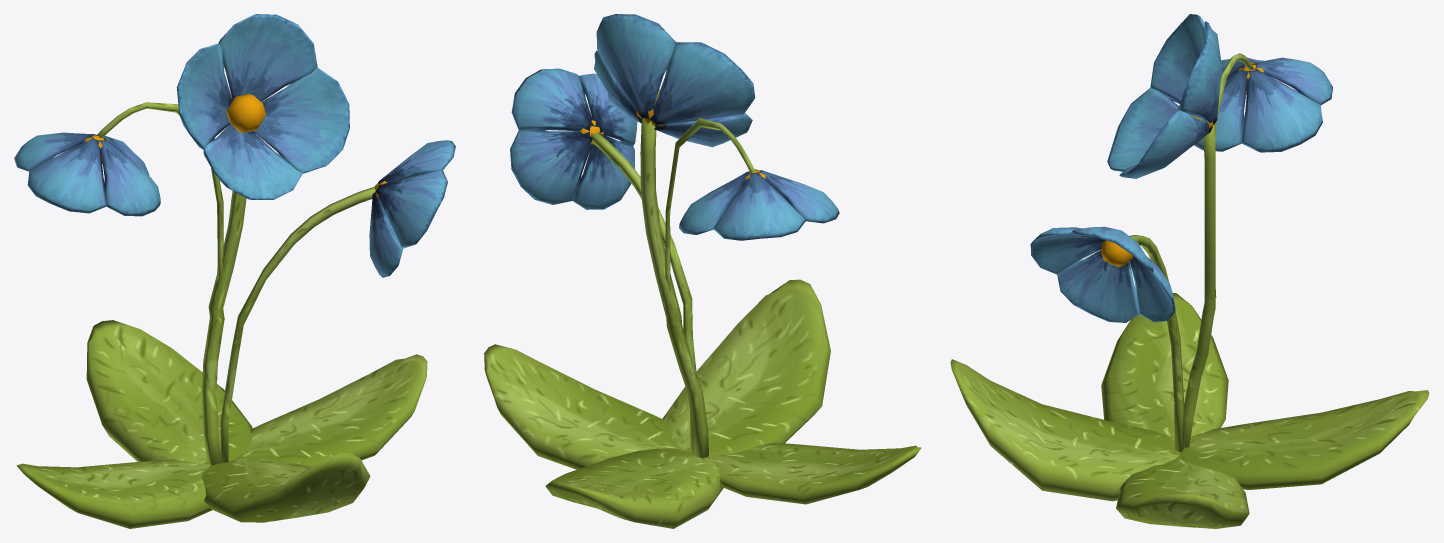
The model's file is Flor_5.fbx.
The picture shows the model from 3 angles, left to right: view 1: azimuth 30°, elevation 25°; view 2: azimuth 150°, elevation 25°; view 3: azimuth 270°, elevation 25°; orthographic projection. The views are drawn at different scales.
Parts seen in each view (by area): view 1: Flor2.003; view 2: Flor2.003; view 3: Flor2.003.
Part boxes in pixels (<box>): Flor2.003: <box>14,14,455,528</box>; Flor2.003: <box>484,14,921,528</box>; Flor2.003: <box>950,14,1429,528</box>.
Size of the model in its own units: 1.46 by 1.54 by 1.42.
